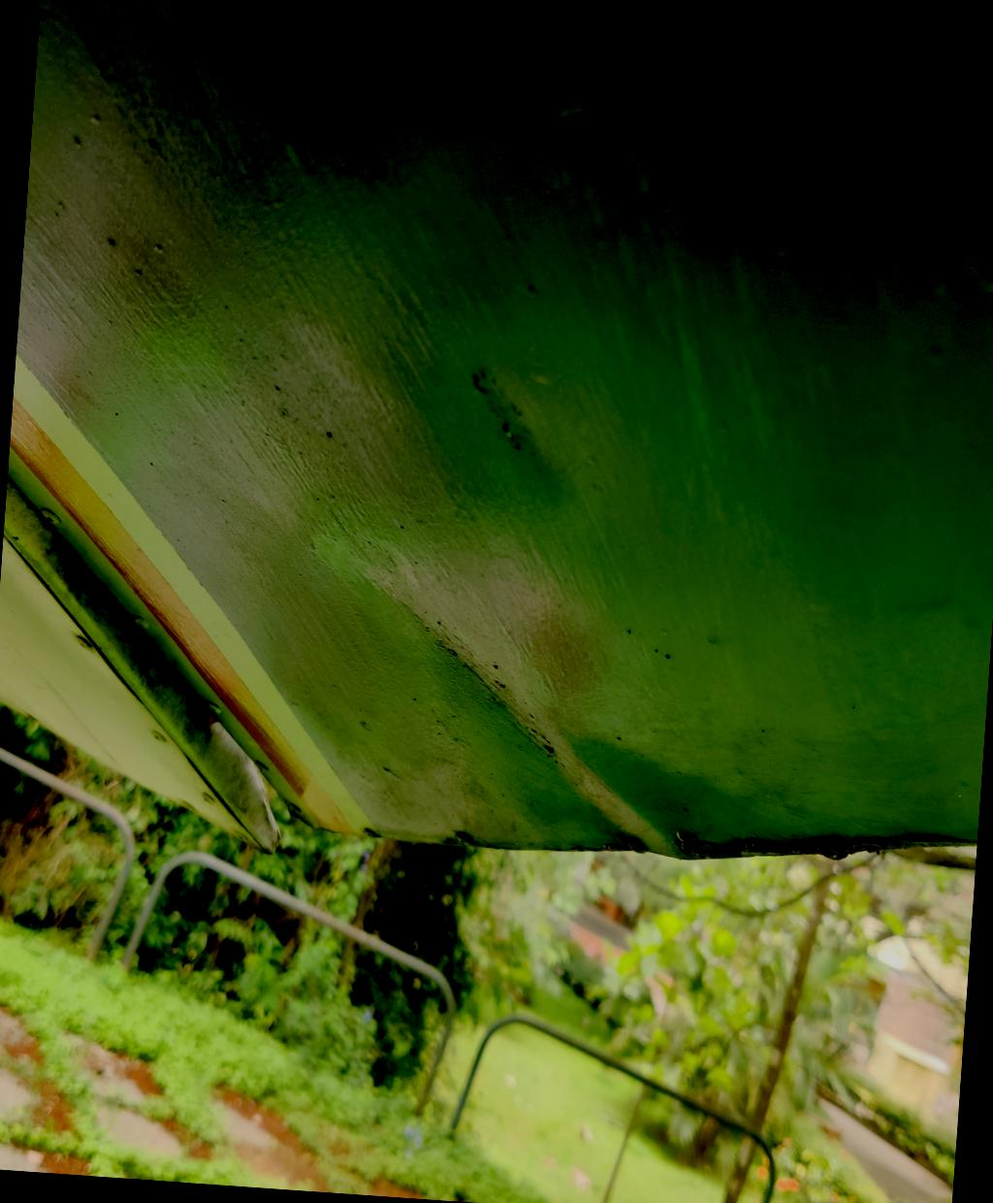dent: (304, 525, 749, 917), (421, 309, 619, 525)
